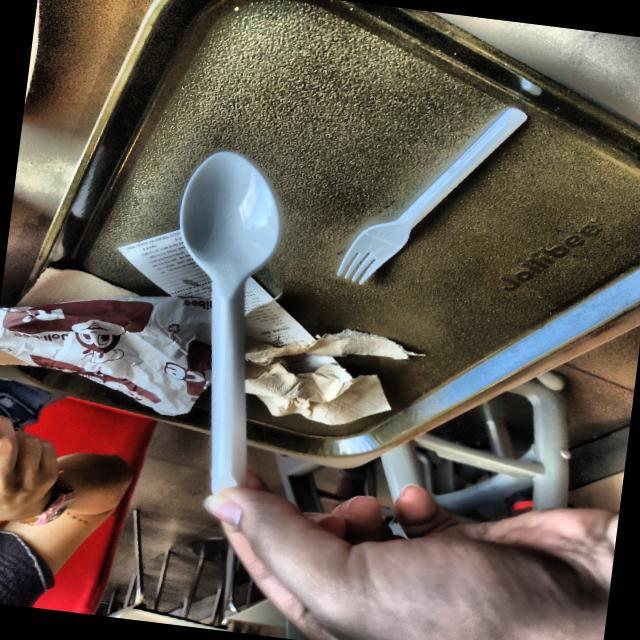plastic utensil: (178, 151, 280, 492), (337, 108, 526, 283)
